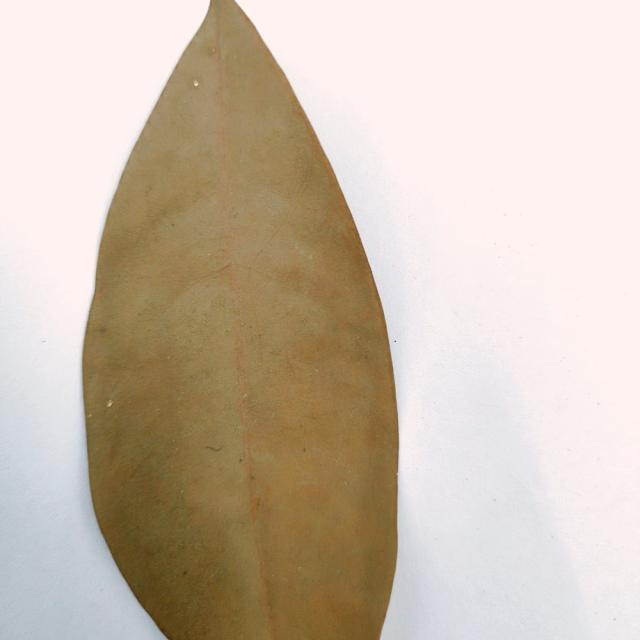Dry_Leaf-Lychee: (80, 0, 400, 639)
